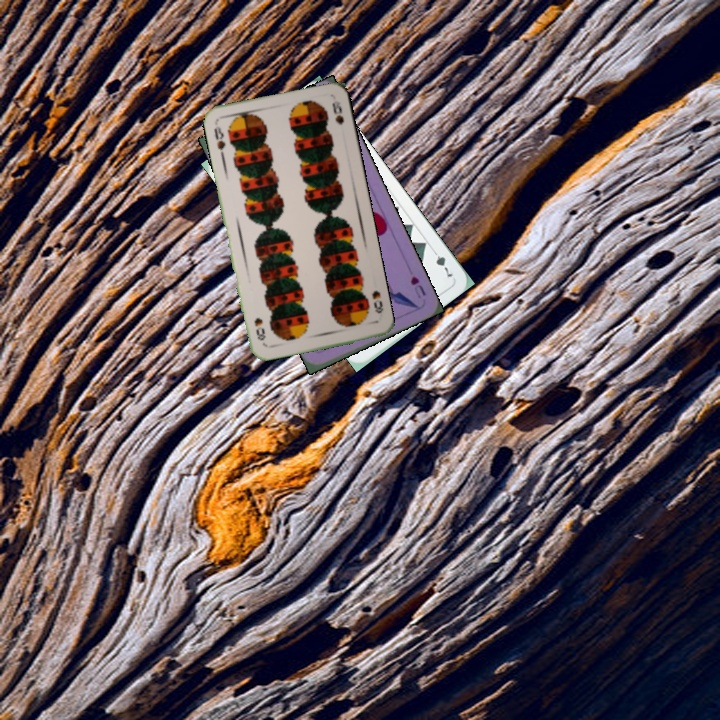G7: (428, 245, 456, 280)
HU: (406, 272, 428, 301)
S8: (210, 122, 228, 161), (368, 286, 386, 316)
